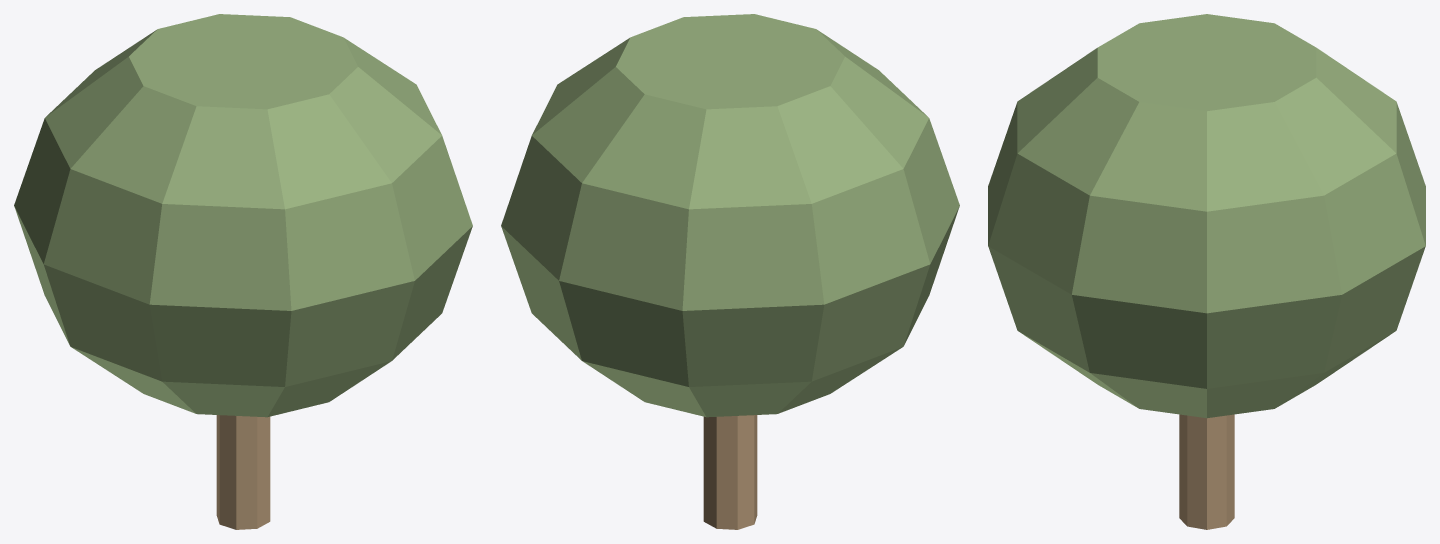
Rendered from oak-arch-2.glb.
The picture shows the model from 3 angles, left to right: view 1: azimuth 30°, elevation 25°; view 2: azimuth 150°, elevation 25°; view 3: azimuth 270°, elevation 25°; orthographic projection.
Visible parts, largest first — view 1: living roof, timber; view 2: living roof, timber; view 3: living roof, timber.
Boxes of the visible parts, x1=… form: living roof: x1=14, y1=14, x2=472, y2=417; timber: x1=216, y1=415, x2=270, y2=529; living roof: x1=501, y1=14, x2=959, y2=417; timber: x1=703, y1=415, x2=757, y2=529; living roof: x1=988, y1=14, x2=1425, y2=418; timber: x1=1179, y1=414, x2=1234, y2=529.
Bounding box in the file's own units: 6.66 × 7.66 × 6.34.
